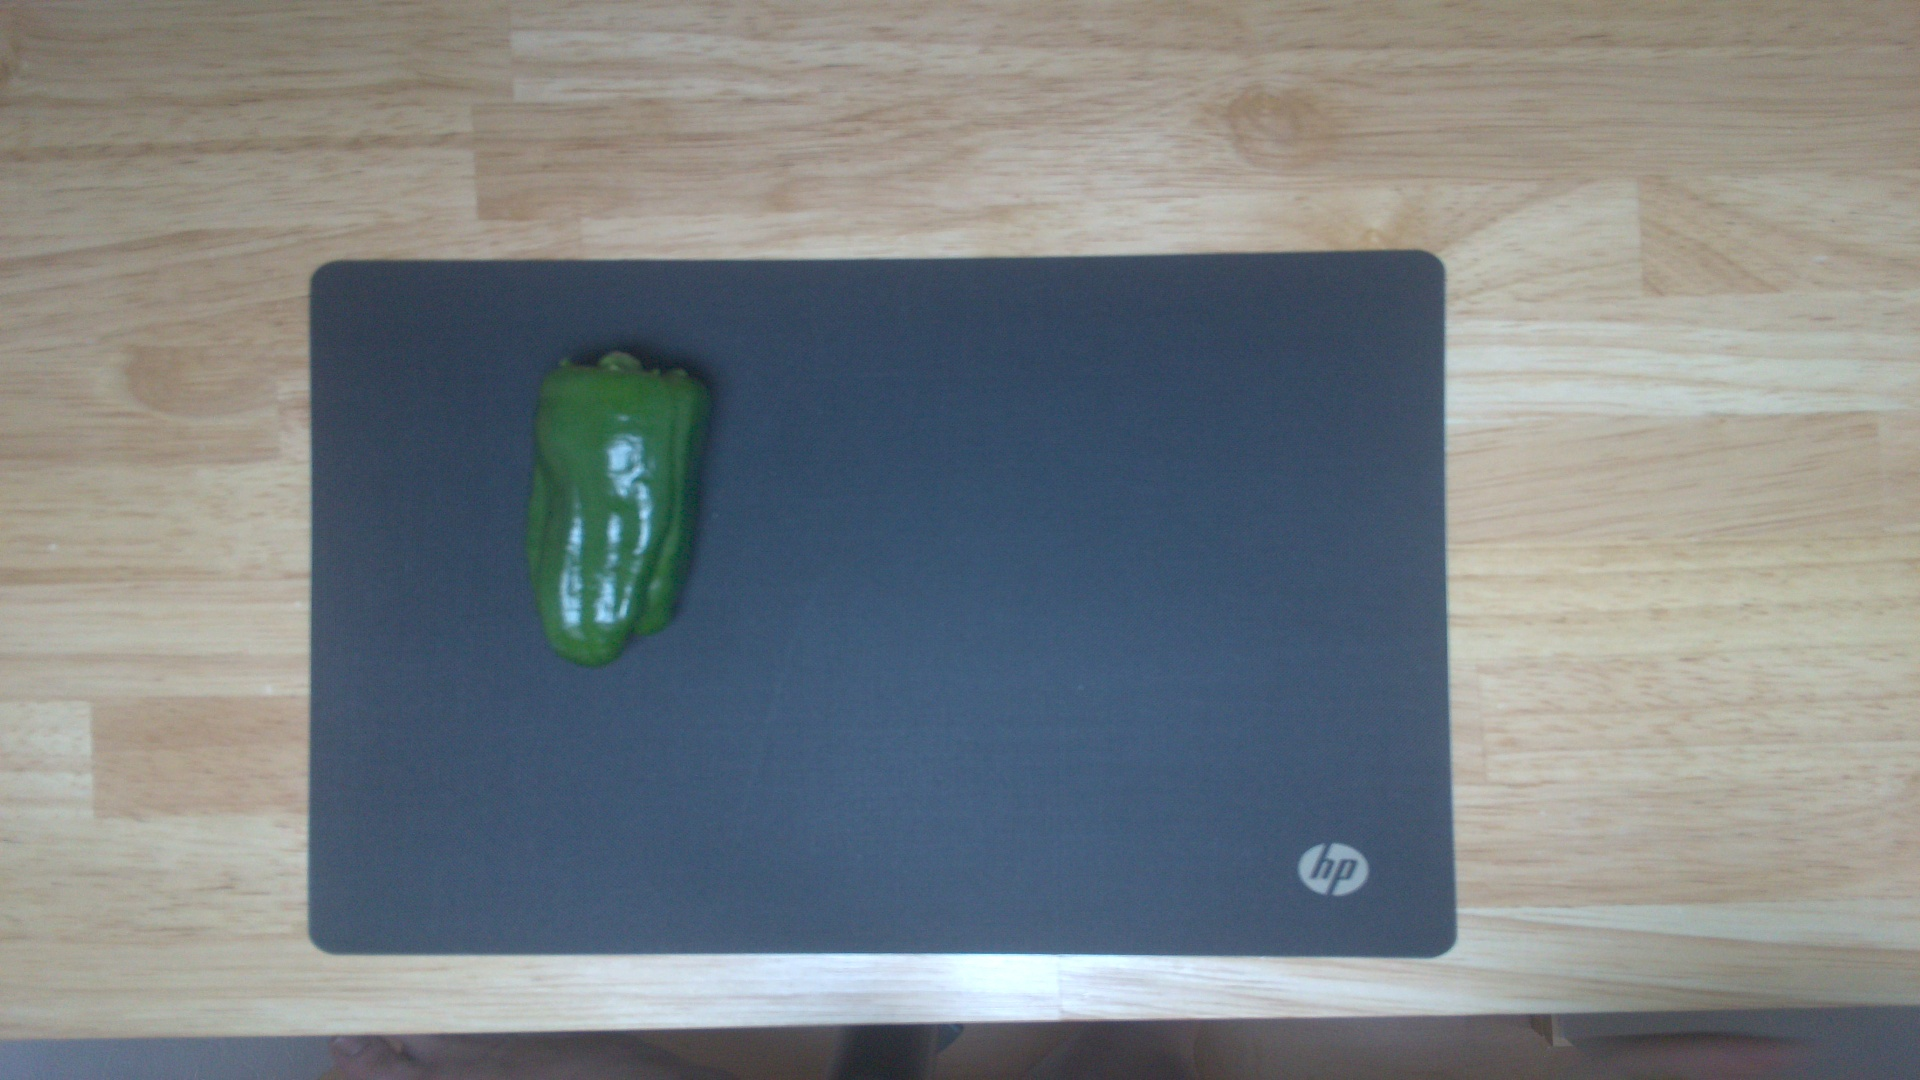Piman: (524, 348, 712, 663)
